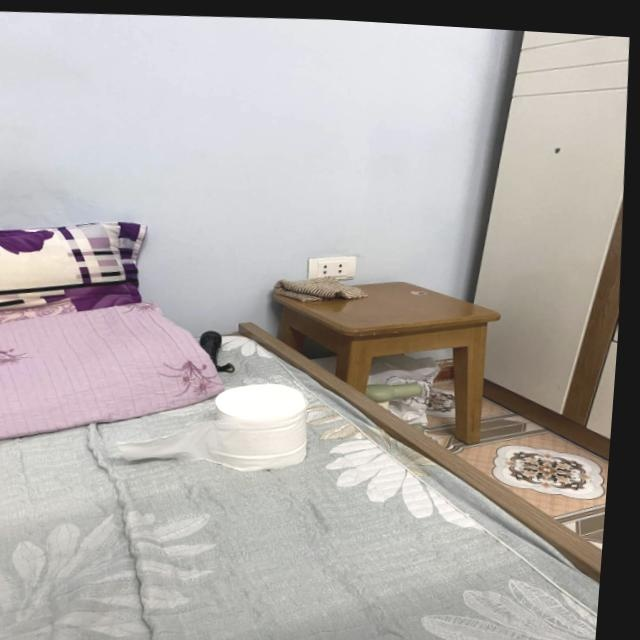outlet: (304, 252, 357, 283)
